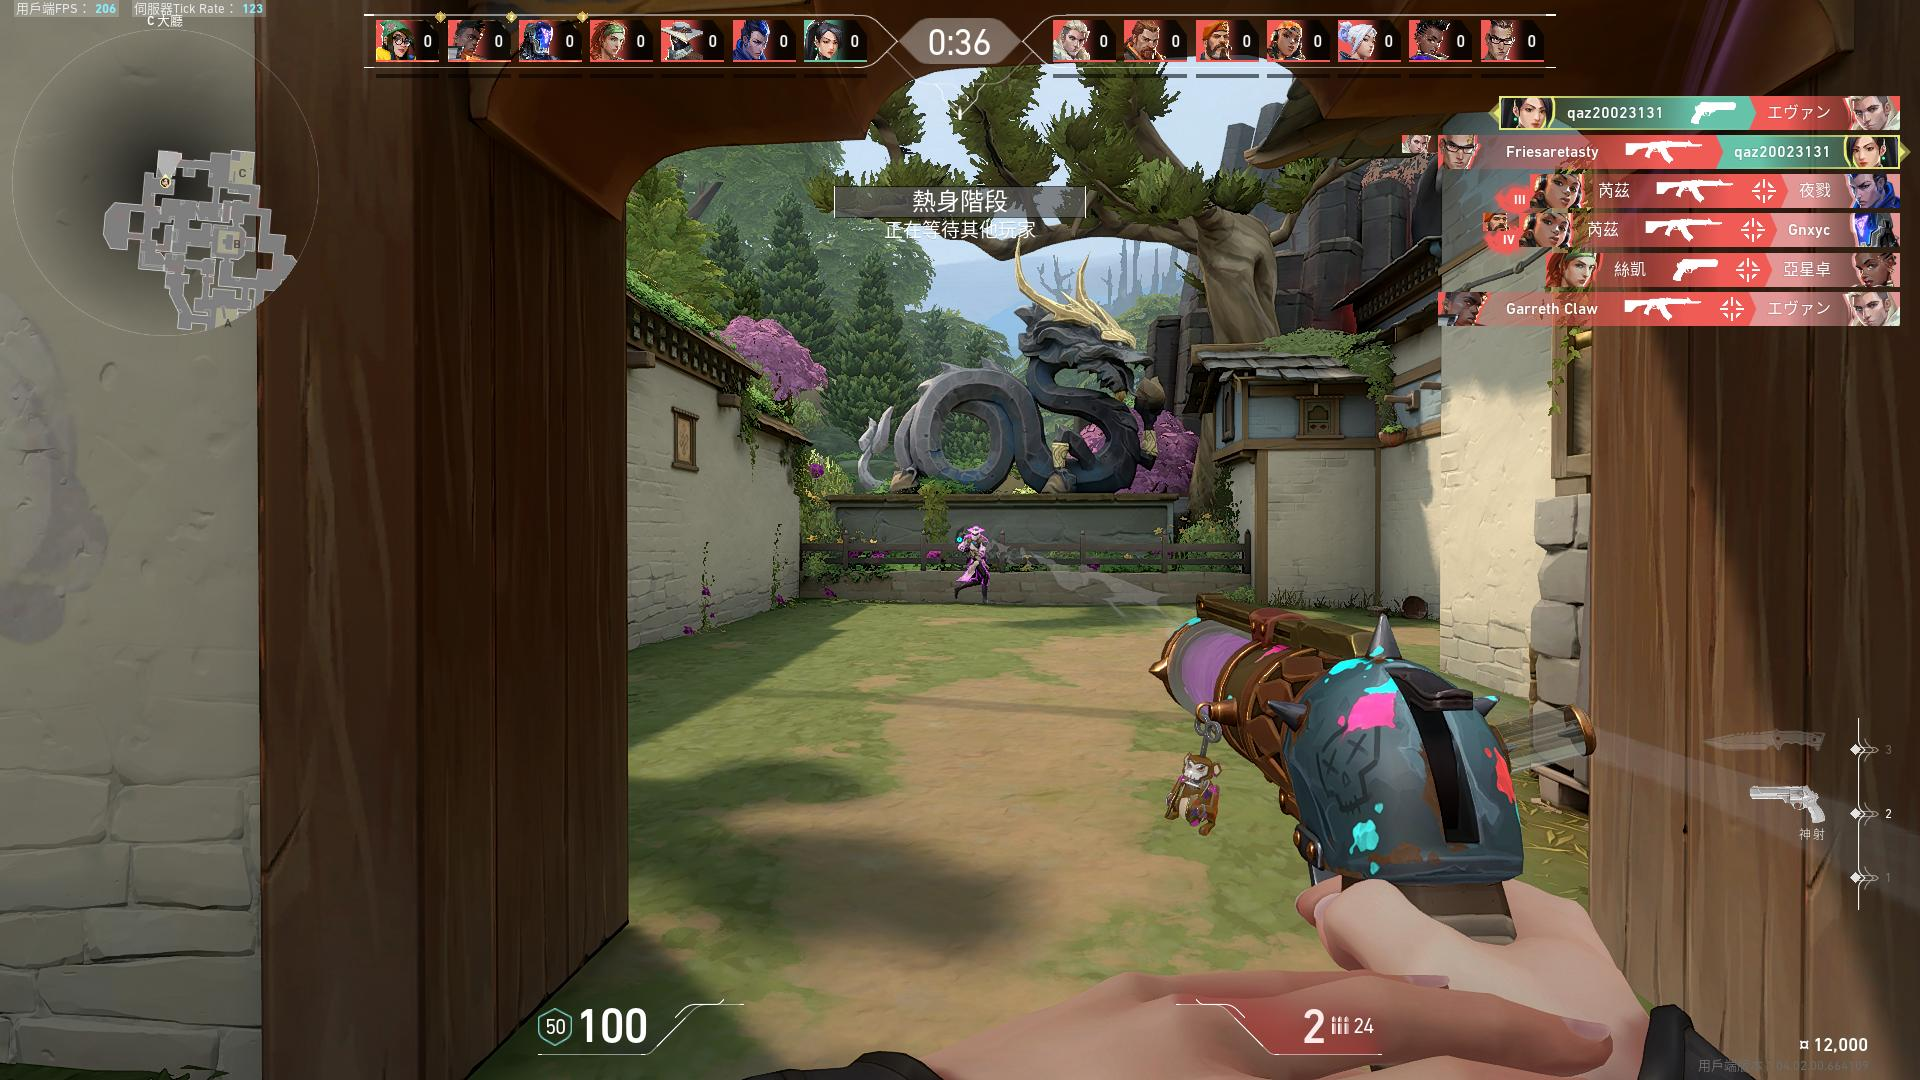enemyBody: (971, 537, 978, 560)
enemyHead: (973, 529, 978, 537)
